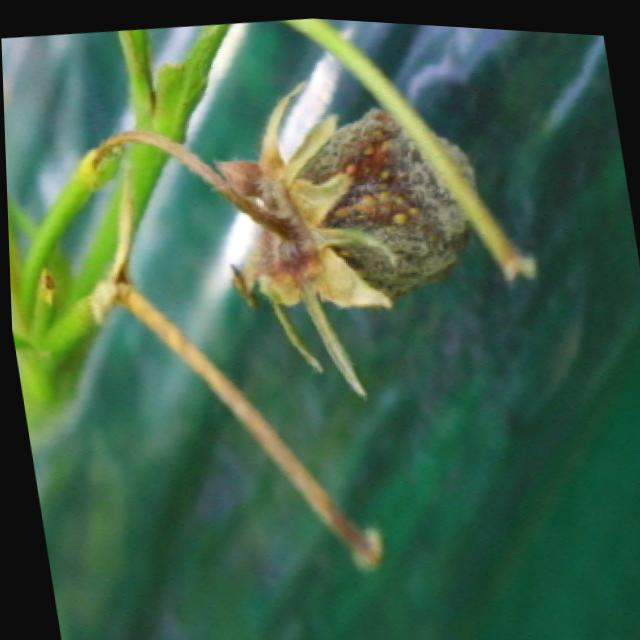Gray Mold: (203, 74, 474, 391)
